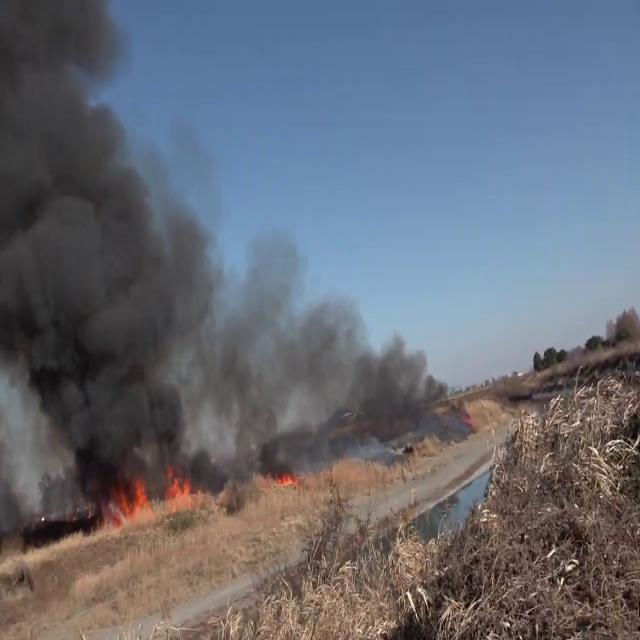Fire: (94, 464, 156, 532), (163, 463, 209, 527)
Smoke: (0, 1, 203, 520), (196, 228, 462, 462)
